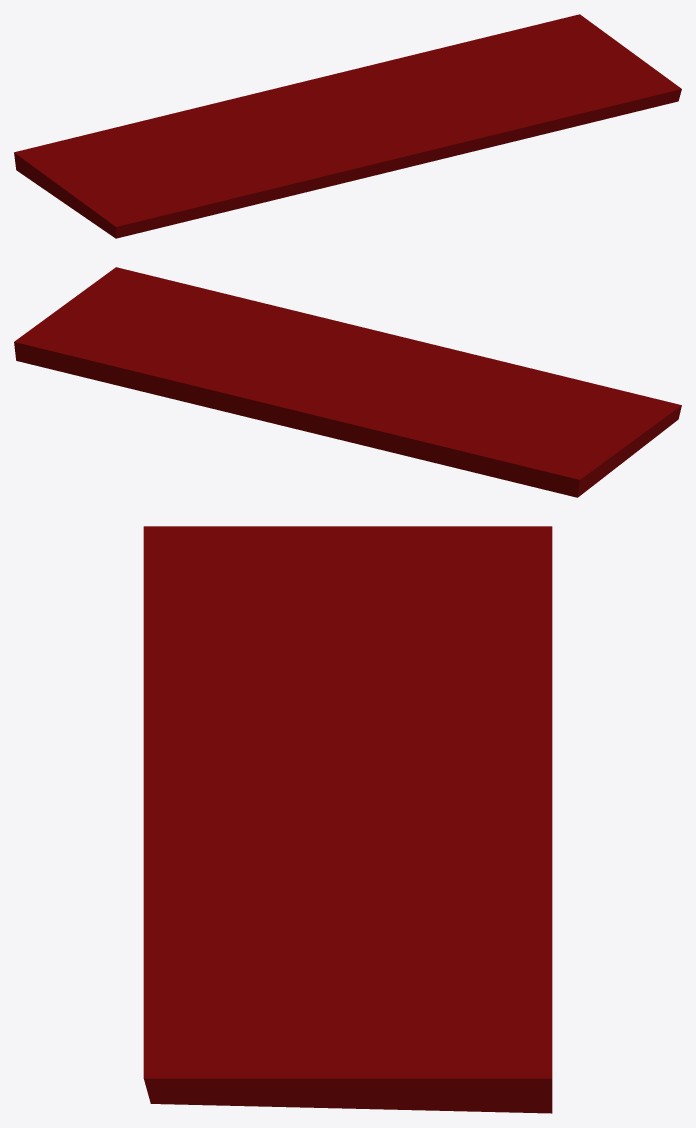
File: mast_base_left.dae
3 renders of one model, top to bottom at view 1: azimuth 30°, elevation 25°; view 2: azimuth 150°, elevation 25°; view 3: azimuth 270°, elevation 25°, orthographic. The views are drawn at different scales.
Visible parts, largest first — view 1: Cube.112; view 2: Cube.112; view 3: Cube.112.
Boxes of the visible parts, x1,y1,x2,y2 form: Cube.112: (14,14,681,238); Cube.112: (14,267,681,497); Cube.112: (143,526,552,1113).
Bounding box in the file's own units: 0.8 × 0.25 × 0.0249.
